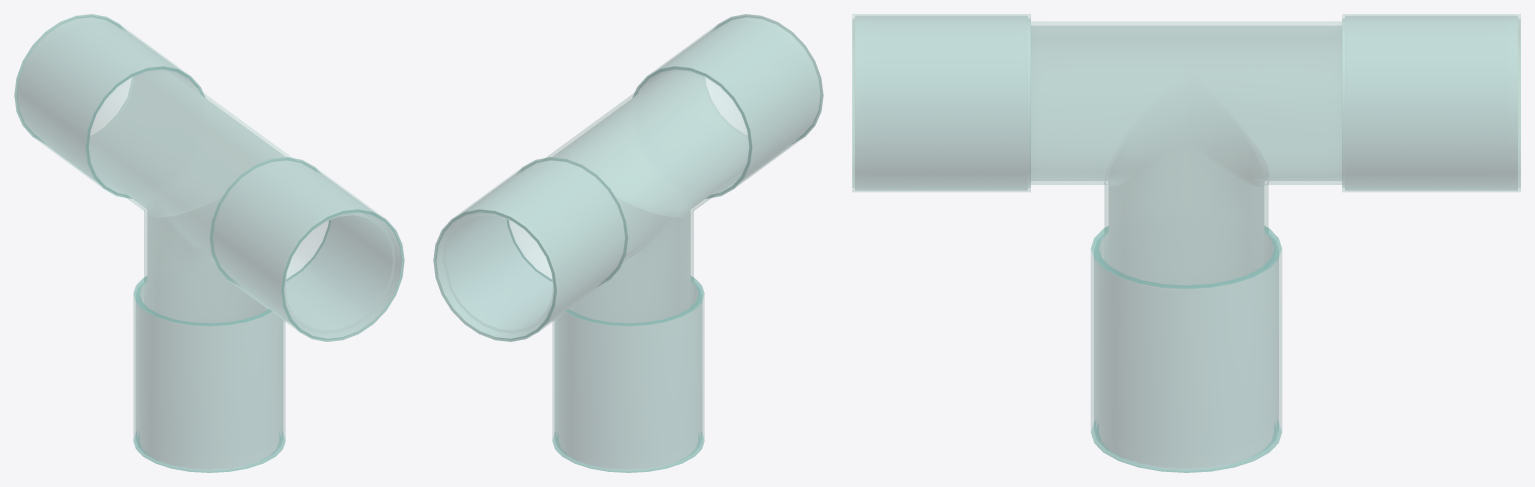
Rendered from FBX_Tpiece.fbx.
The picture shows the model from 3 angles, left to right: view 1: azimuth 30°, elevation 25°; view 2: azimuth 150°, elevation 25°; view 3: azimuth 270°, elevation 25°; orthographic projection. The views are drawn at different scales.
Visible parts, largest first — view 1: SM_T-piece; view 2: SM_T-piece; view 3: SM_T-piece.
Boxes of the visible parts, box(x1,y1,x2,y2) form: SM_T-piece: box(14, 14, 404, 472); SM_T-piece: box(433, 14, 823, 472); SM_T-piece: box(852, 14, 1520, 472).
Size of the model in its own units: 0.0312 by 0.0739 by 0.1091.
